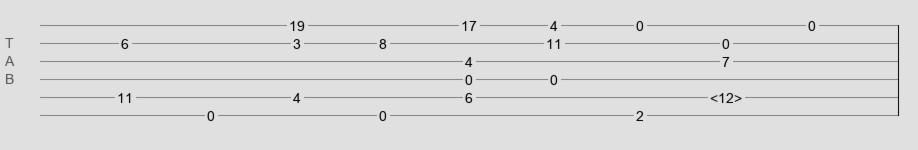0: (207, 108, 215, 118), (379, 108, 387, 118), (465, 72, 473, 82), (550, 72, 558, 82), (636, 18, 644, 28), (722, 36, 730, 46), (808, 18, 816, 28)
11: (117, 90, 133, 100), (546, 36, 562, 46)
17: (461, 18, 477, 28)
19: (289, 18, 305, 28)
2: (636, 108, 644, 118)
3: (293, 36, 301, 46)
4: (293, 90, 301, 100), (465, 54, 473, 64), (550, 18, 558, 28)
6: (121, 36, 129, 46), (465, 90, 473, 100)
7: (722, 54, 730, 64)
8: (379, 36, 387, 46)
harmonic: (710, 90, 742, 100)
